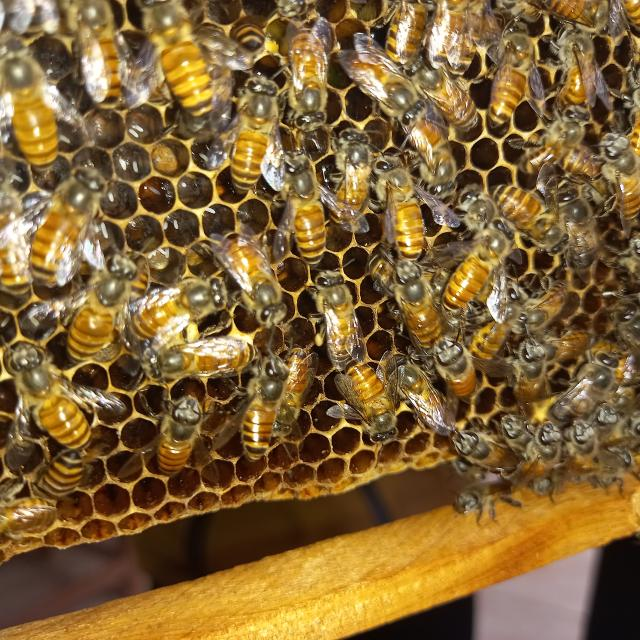honeybee: (9, 335, 88, 448), (0, 44, 66, 174), (144, 0, 212, 120), (26, 168, 96, 284), (73, 258, 132, 370), (70, 2, 128, 112), (221, 71, 274, 185), (351, 42, 417, 128), (399, 102, 455, 202), (453, 215, 508, 316), (372, 156, 423, 263), (490, 175, 563, 249), (127, 279, 227, 333), (383, 351, 442, 435), (275, 158, 322, 262), (159, 390, 213, 480), (336, 354, 388, 447), (148, 334, 261, 375), (285, 31, 331, 131), (316, 272, 364, 366), (243, 361, 279, 481), (538, 104, 590, 184), (558, 350, 620, 416), (543, 24, 593, 105), (232, 237, 278, 325), (422, 65, 482, 132), (274, 338, 314, 433), (492, 36, 532, 125), (561, 182, 599, 274), (392, 265, 436, 344), (451, 476, 526, 520), (520, 271, 572, 333), (458, 421, 516, 476), (604, 133, 640, 214), (428, 0, 469, 64), (532, 325, 594, 364), (568, 418, 602, 484), (475, 294, 507, 361), (387, 0, 422, 60), (40, 448, 80, 496), (522, 341, 549, 407), (540, 0, 604, 26), (528, 420, 558, 474), (461, 347, 463, 353)
